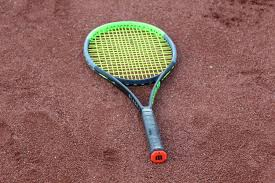tennis racket: (83, 18, 182, 163)
